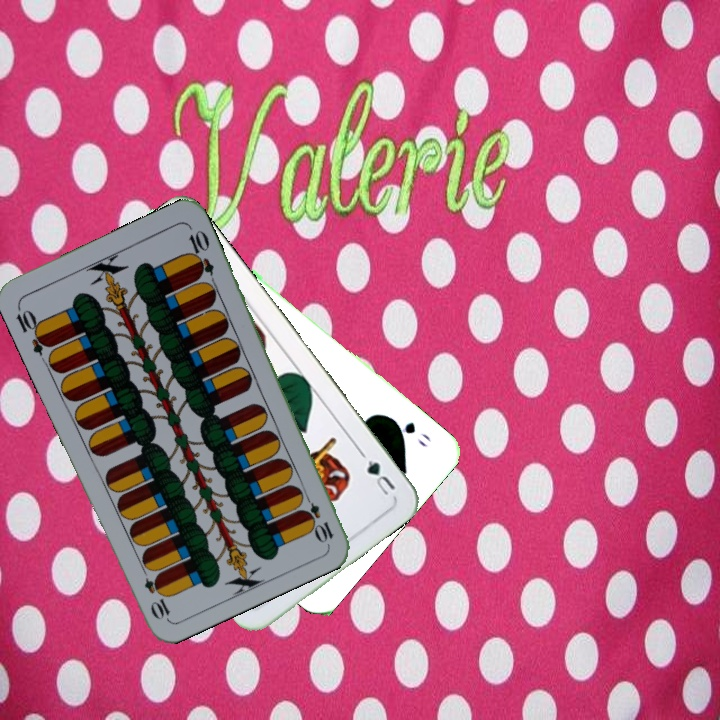E10: (12, 302, 54, 358), (298, 489, 336, 545)
GO: (385, 413, 434, 451)
GU: (362, 455, 398, 501)
